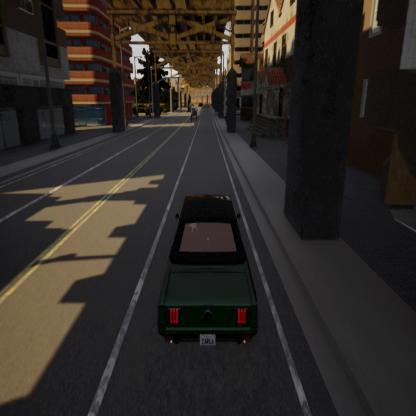Cars: (155, 167, 264, 394), (188, 98, 206, 128)
